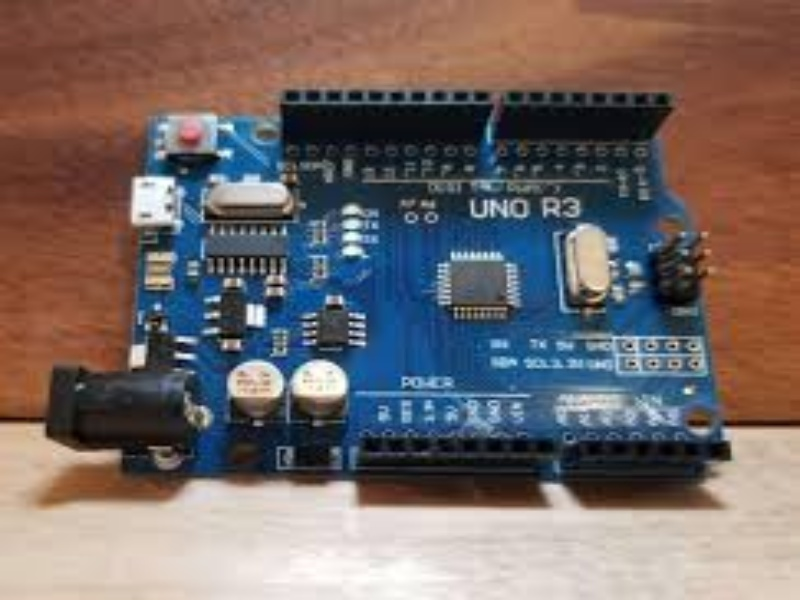uno: (84, 72, 740, 491)
